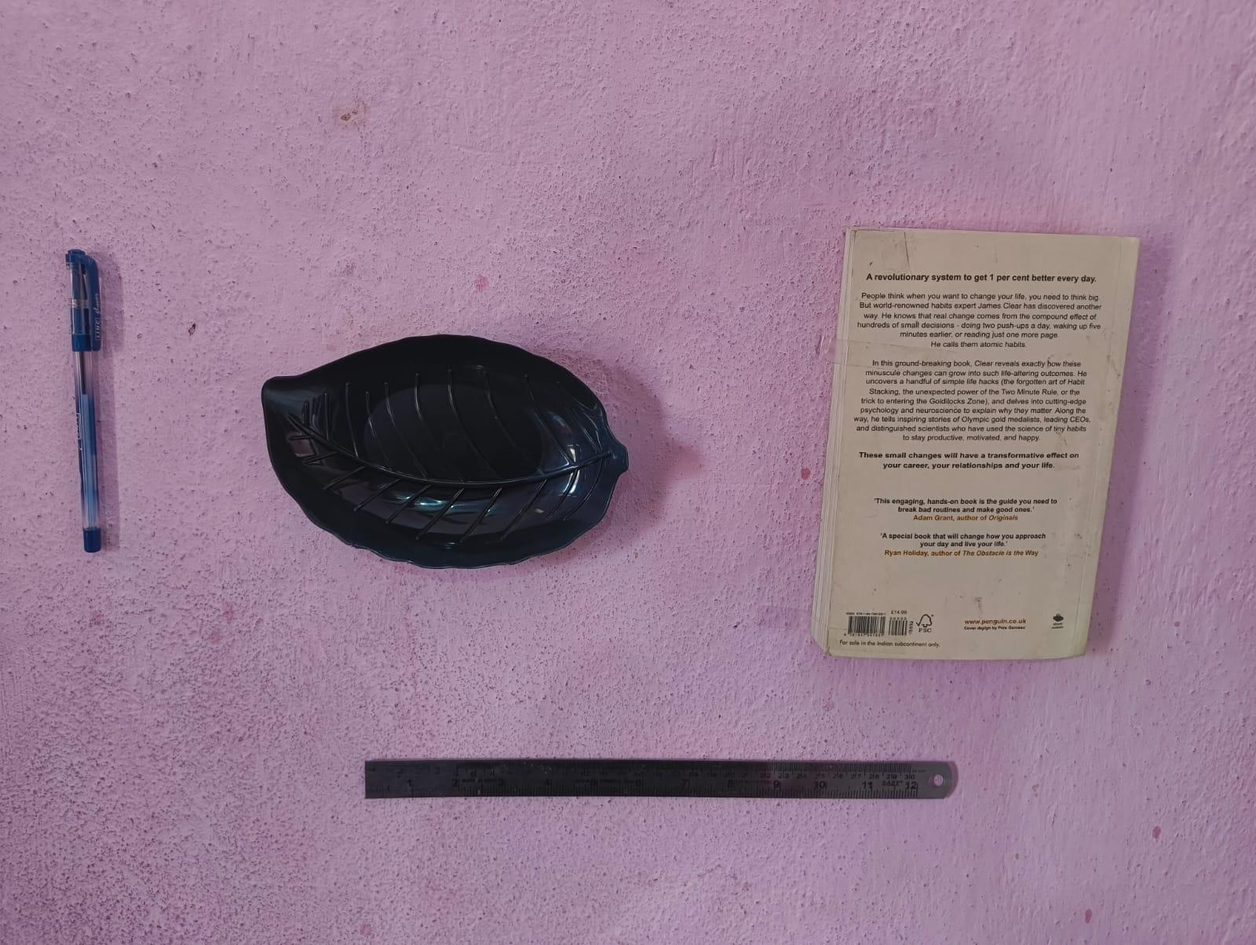Book: (813, 219, 1146, 668)
pen: (47, 244, 116, 558)
plate: (259, 329, 632, 576)
scale: (356, 752, 966, 811)
